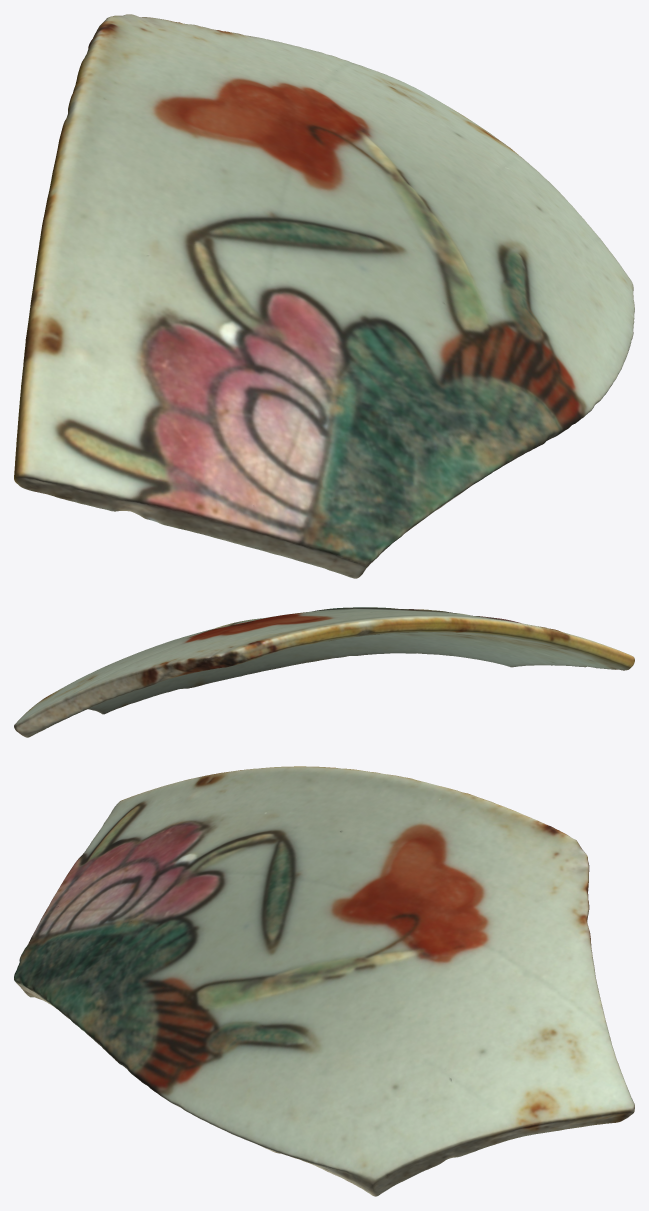
3 renders of one model, top to bottom at view 1: azimuth 30°, elevation 25°; view 2: azimuth 150°, elevation 25°; view 3: azimuth 270°, elevation 25°, orthographic. The views are drawn at different scales.
Visible parts, largest first — view 1: Node; view 2: Node; view 3: Node.
Part boxes in pixels (x1,y1,x2,y2): Node: (14, 14, 634, 578); Node: (14, 607, 634, 737); Node: (14, 766, 634, 1196).
Bounding box in the file's own units: 76.19 × 28.89 × 69.78.
Materials: 1 (1 with a texture image).
